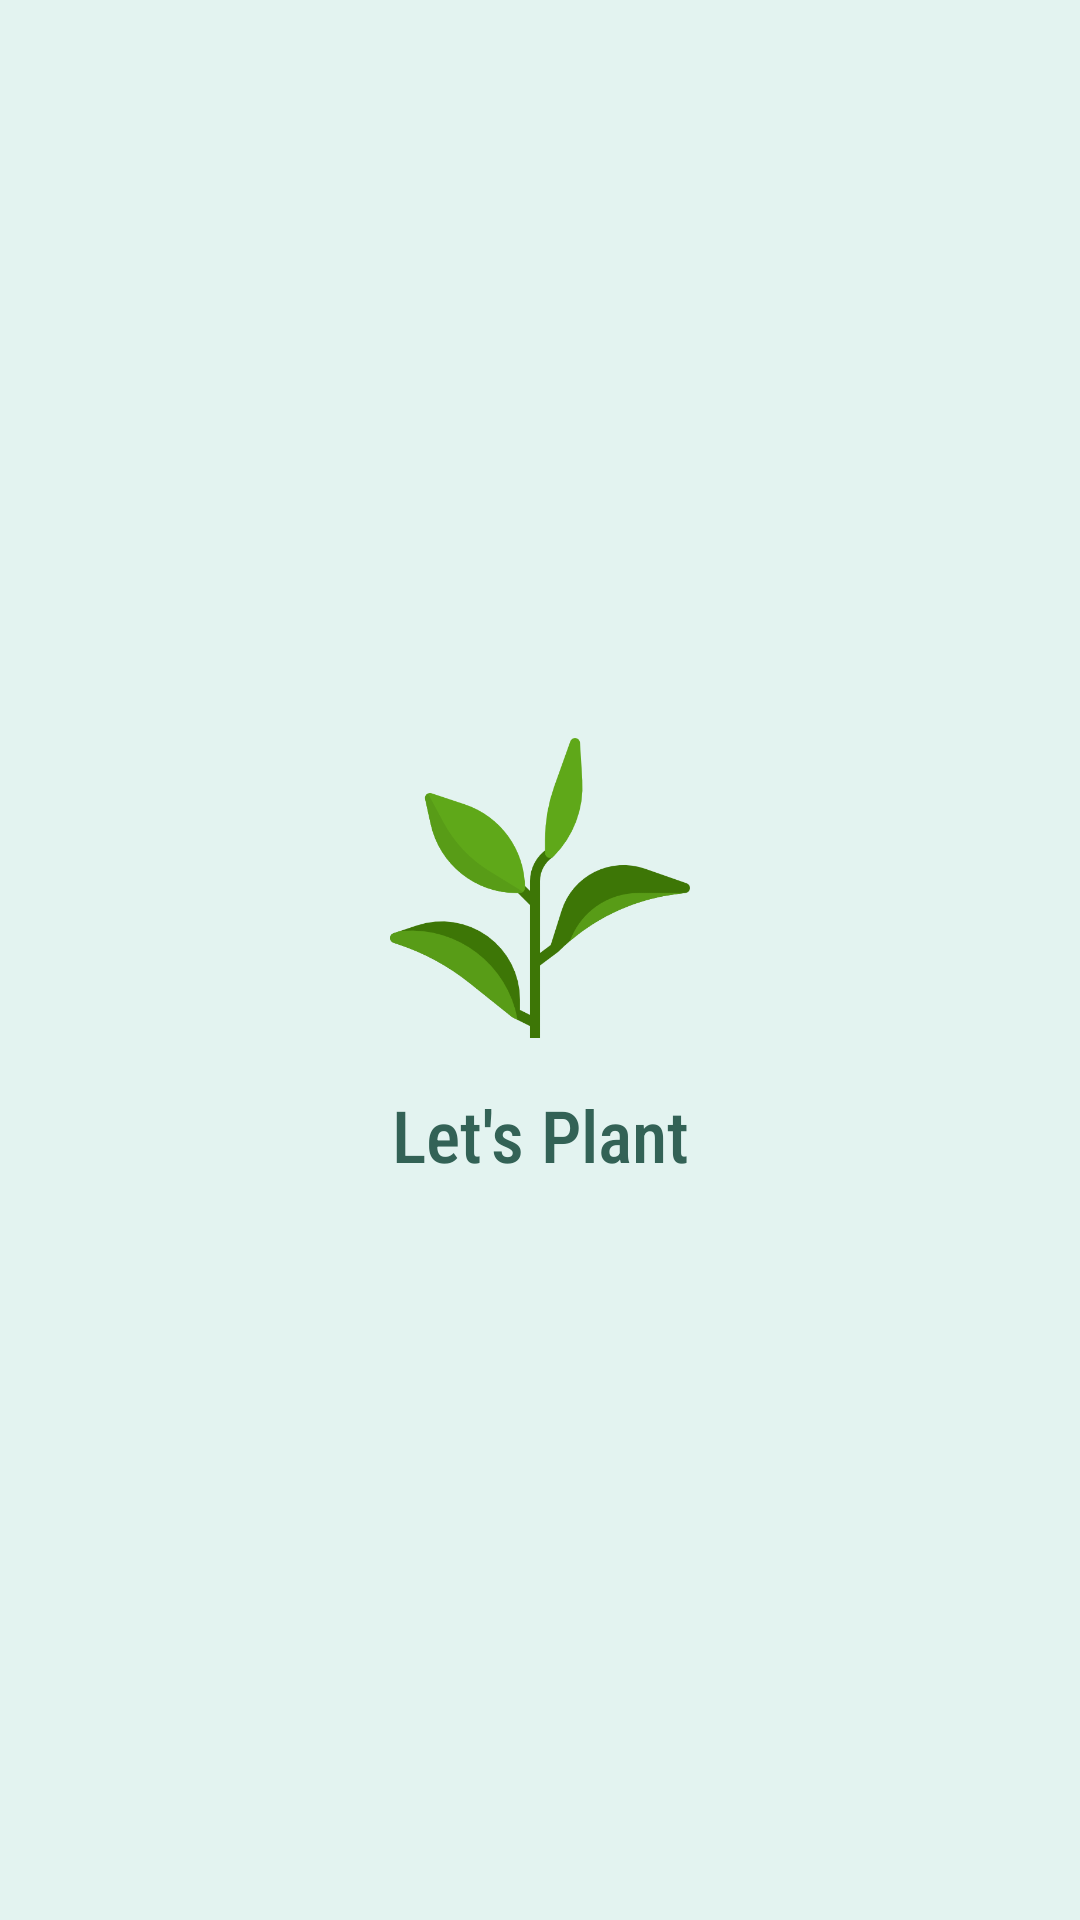

Screen size 1080px×1920px. Icon name, then its center in pixels as (x=x, y=y):
tea: (x=540, y=888)
